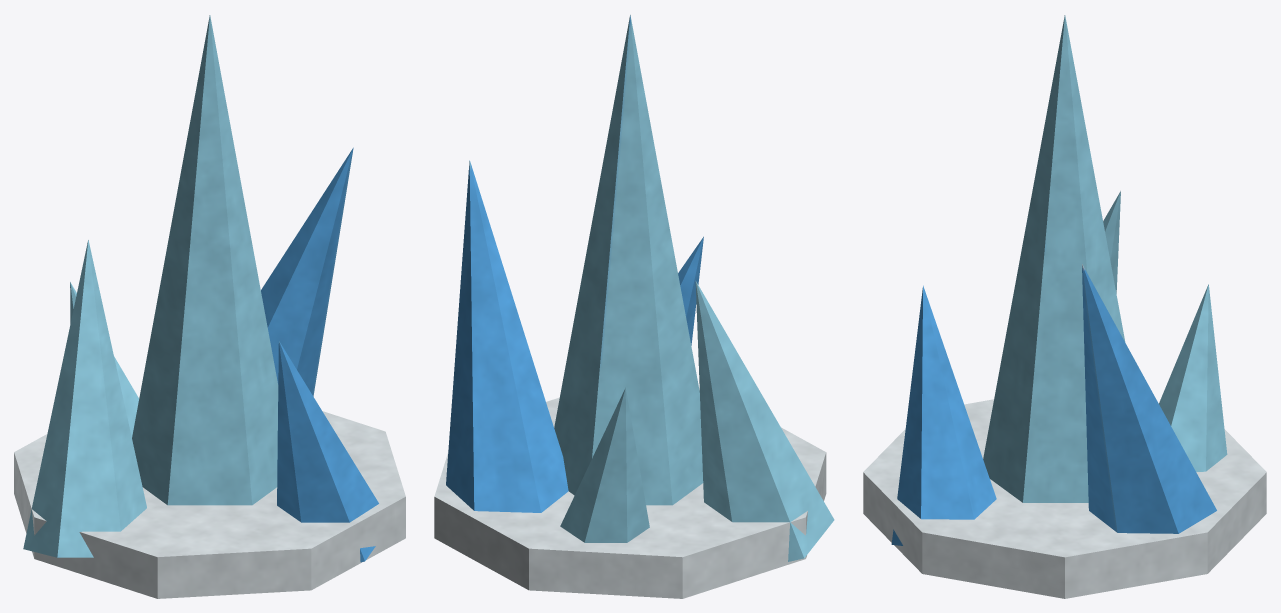
The model's file is ice_crystal_cluster.fbx.
3 views of the same model, side by side, from view 1: azimuth 30°, elevation 25°; view 2: azimuth 150°, elevation 25°; view 3: azimuth 270°, elevation 25° (orthographic).
Visible parts, largest first — view 1: Ice_crystal_cluster; view 2: Ice_crystal_cluster; view 3: Ice_crystal_cluster.
Part boxes in pixels (x1=…): Ice_crystal_cluster: x1=14, y1=15, x2=405, y2=598; Ice_crystal_cluster: x1=434, y1=15, x2=834, y2=598; Ice_crystal_cluster: x1=863, y1=15, x2=1266, y2=598.
Size of the model in its own units: 2.23 by 3.07 by 2.2.
1 material, 1 textured.
